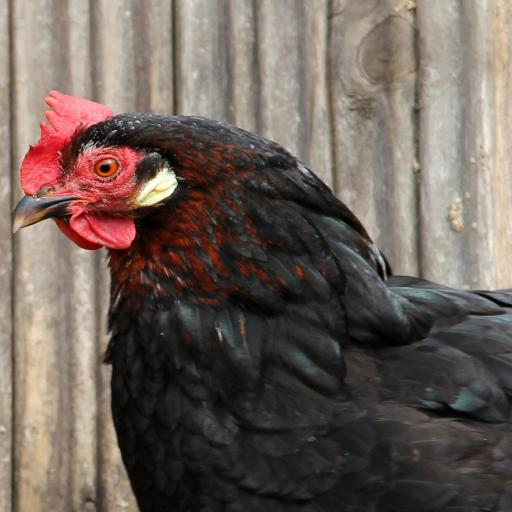disease: (119, 146, 199, 232)
